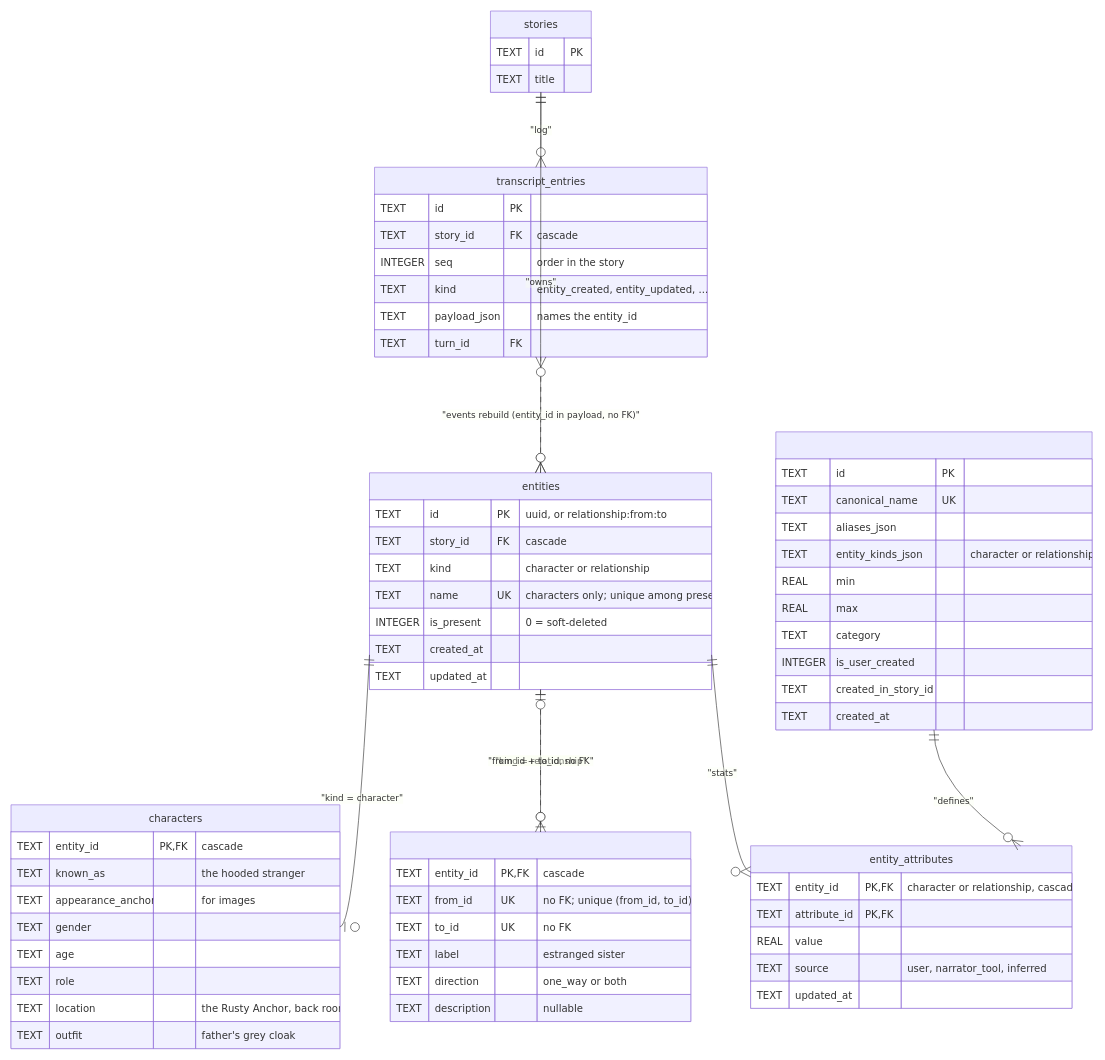
This 1105x1060 diagram has some shape labels left out. The shapes that lost their labels are listed below. From the top down, each one's box as (x1, y1, x2, y2) in pixels, then its label:
(775, 431, 1092, 730): attribute_registry
(390, 831, 691, 1022): relationships
